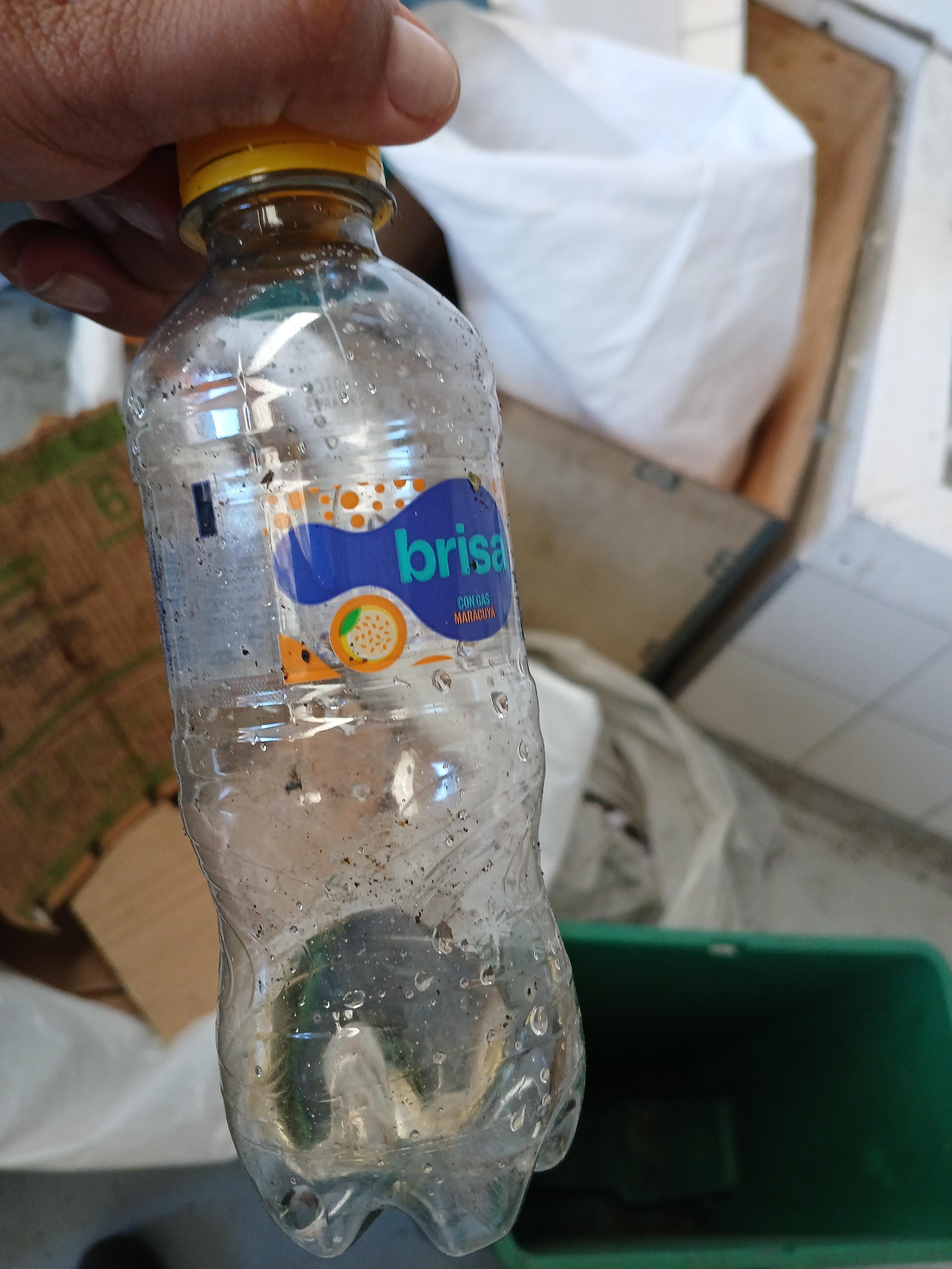Plastico: (127, 135, 586, 1257)
